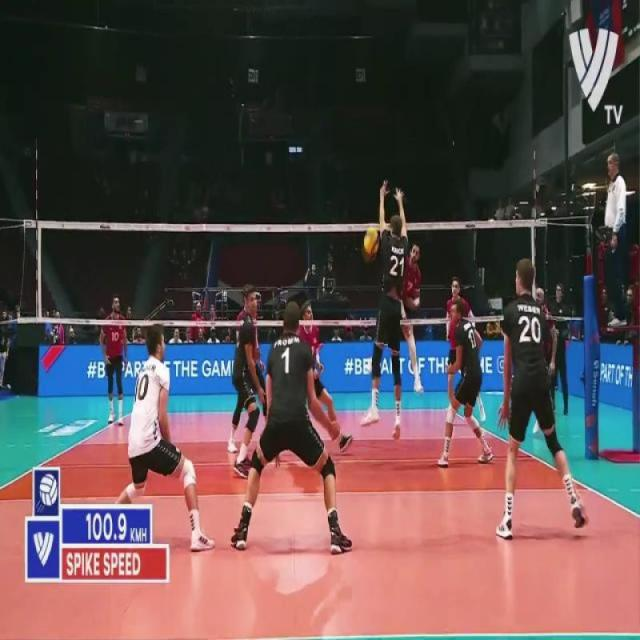volleyball: (364, 227, 380, 256)
